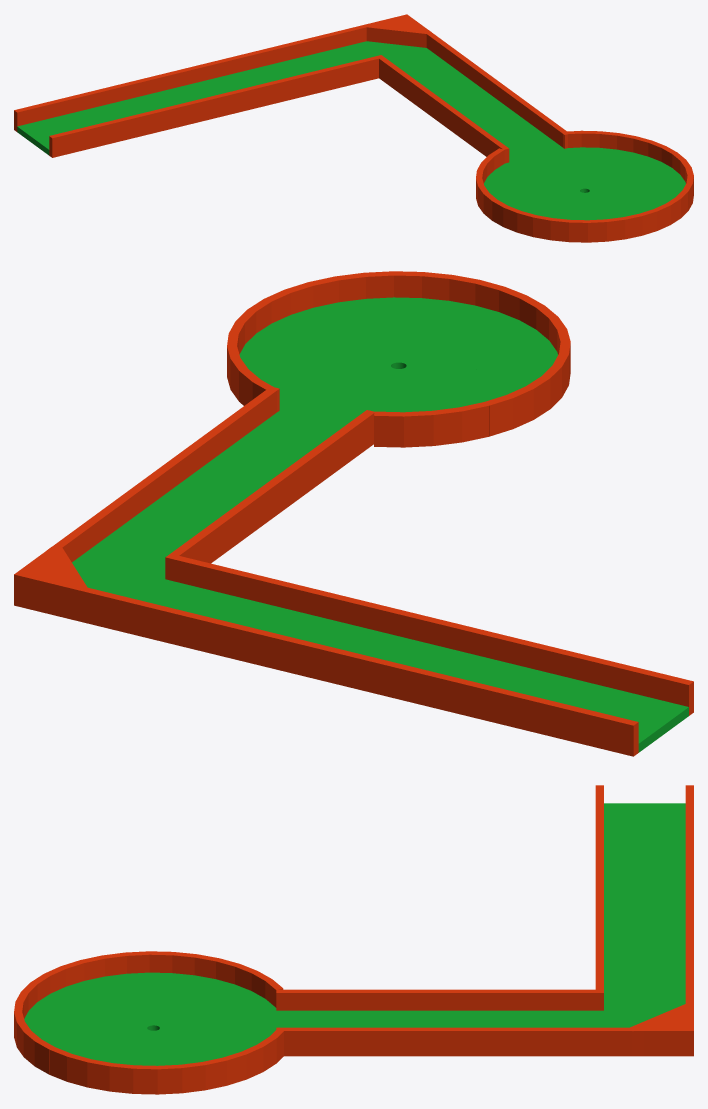
File: course.fbx
3 views of the same model, one above another, from view 1: azimuth 30°, elevation 25°; view 2: azimuth 150°, elevation 25°; view 3: azimuth 270°, elevation 25° (orthographic). The views are drawn at different scales.
Parts seen in each view (by area): view 1: Cube, Wall2, Wall1, Wall3, Wall4, BumperBox, Ground.029, Ground.002, Ground.033, BumperVisual, Ground.032, Ground.026 (+23 smaller); view 2: Cube, Wall1, Wall2, Wall3, Wall4, Ground.025, Ground.001, Ground.021, Ground.013, Ground.017, Ground.028, Ground.022 (+36 smaller); view 3: Cube, Wall4, Wall3, Wall1, Wall2, Ground.001, Ground.013, Ground.017, Ground.009, Ground.002, BumperVisual, Ground.008 (+35 smaller).
Part boxes in pixels (box(x1,y1,x2,y2)): Cube: box(17, 41, 564, 162); Wall2: box(49, 55, 383, 157); Wall1: box(14, 15, 404, 131); Wall3: box(379, 57, 509, 163); Wall4: box(402, 14, 568, 148); BumperBox: box(365, 25, 429, 47); Ground.029: box(586, 157, 660, 193); Ground.002: box(505, 160, 591, 191); Ground.033: box(581, 147, 600, 192); BumperVisual: box(365, 17, 428, 47); Ground.032: box(585, 148, 617, 192); Ground.026: box(590, 175, 684, 196); Cube: box(72, 410, 688, 752); Wall1: box(22, 573, 638, 756); Wall2: box(165, 553, 693, 715); Wall3: box(171, 410, 374, 563); Wall4: box(14, 386, 279, 607); Ground.025: box(291, 308, 411, 368); Ground.001: box(302, 363, 398, 421); Ground.021: box(393, 297, 423, 368); Ground.013: box(406, 352, 557, 371); Ground.017: box(400, 312, 518, 368); Ground.028: box(245, 333, 391, 366); Ground.022: box(366, 297, 416, 368); Cube: box(276, 803, 685, 1027); Wall4: box(276, 1027, 693, 1056); Wall3: box(276, 989, 595, 1010); Wall1: box(685, 785, 693, 1027); Wall2: box(595, 785, 603, 1010); Ground.001: box(159, 1026, 276, 1036); Ground.013: box(67, 981, 150, 1029); Ground.017: box(24, 1011, 148, 1029); Ground.009: box(149, 972, 173, 1030); Ground.002: box(159, 1007, 276, 1029); BumperVisual: box(632, 1004, 688, 1056); Ground.008: box(154, 973, 195, 1030).
Size of the model in its own units: 821 by 34 by 831.
